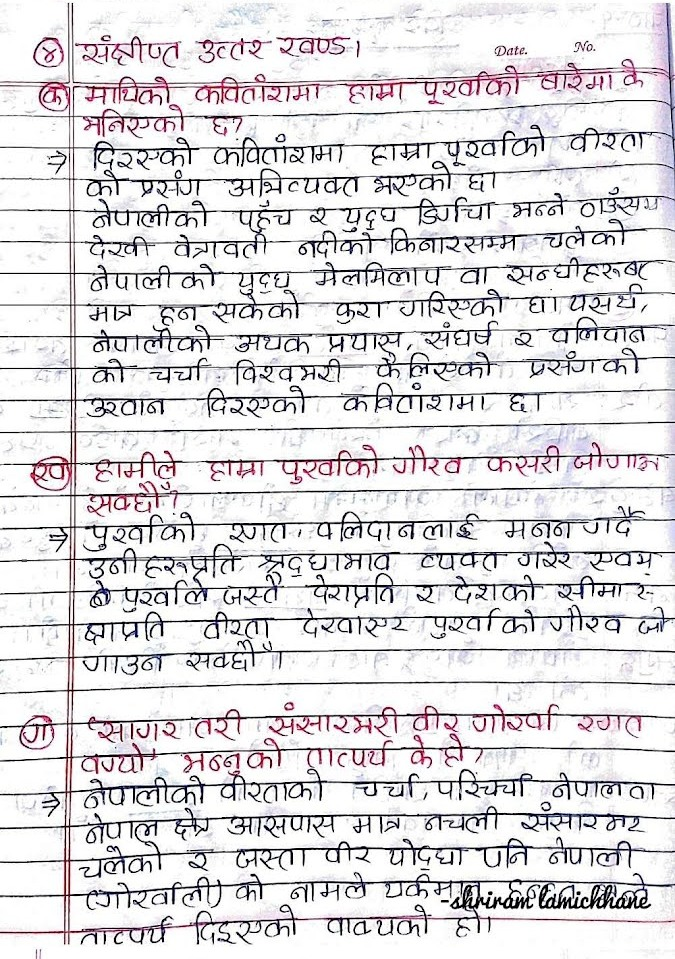text: (84, 541, 241, 580), (313, 508, 486, 543), (336, 380, 490, 415), (503, 253, 662, 286), (267, 701, 402, 738), (188, 905, 301, 947), (82, 511, 197, 552), (79, 775, 209, 811), (212, 134, 347, 168), (443, 124, 551, 166), (276, 443, 382, 485), (518, 801, 645, 836), (192, 74, 328, 105), (225, 167, 361, 198), (87, 262, 219, 293), (97, 874, 216, 908), (78, 32, 184, 70), (323, 903, 434, 939), (91, 198, 212, 231), (524, 347, 645, 380), (299, 605, 409, 641), (388, 226, 528, 254), (78, 106, 186, 142), (311, 260, 449, 288), (90, 324, 214, 355), (426, 607, 539, 641), (422, 65, 523, 103), (201, 384, 310, 419), (373, 352, 499, 382), (76, 841, 168, 880), (549, 772, 657, 805), (179, 740, 283, 774), (220, 772, 330, 804), (396, 287, 509, 318), (573, 437, 666, 474), (230, 358, 347, 387), (545, 835, 636, 872), (90, 139, 195, 171), (255, 550, 401, 573), (433, 768, 534, 801), (303, 573, 399, 607), (74, 915, 170, 949), (172, 228, 270, 261), (83, 72, 175, 107), (541, 219, 643, 250), (211, 289, 301, 324), (470, 701, 559, 736), (224, 812, 339, 839), (382, 873, 489, 902), (286, 868, 372, 903), (117, 579, 211, 611), (182, 641, 276, 673), (89, 450, 181, 482), (550, 316, 651, 345), (84, 480, 164, 516), (386, 835, 466, 871), (450, 574, 542, 605), (302, 738, 393, 769), (551, 601, 625, 639), (82, 611, 166, 644), (389, 443, 468, 478), (419, 319, 501, 352), (482, 444, 564, 477), (578, 185, 664, 216), (567, 124, 652, 155), (415, 195, 497, 227), (81, 392, 174, 420), (80, 811, 161, 843), (197, 609, 279, 640), (95, 716, 182, 745), (536, 61, 614, 93), (584, 546, 664, 577), (78, 649, 169, 676), (421, 805, 505, 834), (296, 230, 378, 259), (568, 283, 641, 315), (416, 548, 509, 573), (372, 167, 455, 195), (78, 744, 149, 776), (136, 168, 208, 199), (500, 516, 579, 544), (220, 574, 289, 606), (475, 834, 530, 873), (584, 504, 648, 537), (232, 845, 309, 872), (556, 576, 628, 604), (574, 711, 648, 738), (516, 541, 580, 572), (324, 330, 406, 354), (343, 78, 412, 106), (236, 198, 294, 231), (193, 37, 266, 63), (353, 773, 420, 801), (231, 332, 312, 355), (224, 518, 293, 545), (407, 703, 464, 735), (361, 141, 436, 165), (86, 232, 150, 260), (510, 192, 569, 222), (202, 457, 270, 483), (276, 35, 349, 59), (147, 357, 211, 384), (234, 268, 295, 296), (193, 708, 243, 742), (172, 805, 217, 842), (339, 204, 398, 232), (321, 839, 374, 868), (331, 300, 390, 325), (348, 811, 406, 836), (84, 301, 140, 325), (90, 356, 132, 386), (153, 299, 197, 327), (84, 169, 123, 200), (450, 907, 484, 941), (637, 606, 671, 639), (234, 872, 268, 905), (440, 732, 470, 767), (405, 734, 433, 769), (619, 56, 645, 91), (184, 846, 212, 874), (456, 266, 497, 285), (203, 111, 231, 138), (411, 580, 439, 607), (503, 391, 534, 415), (520, 294, 549, 317), (464, 171, 489, 195), (306, 205, 331, 228), (513, 328, 539, 350)
